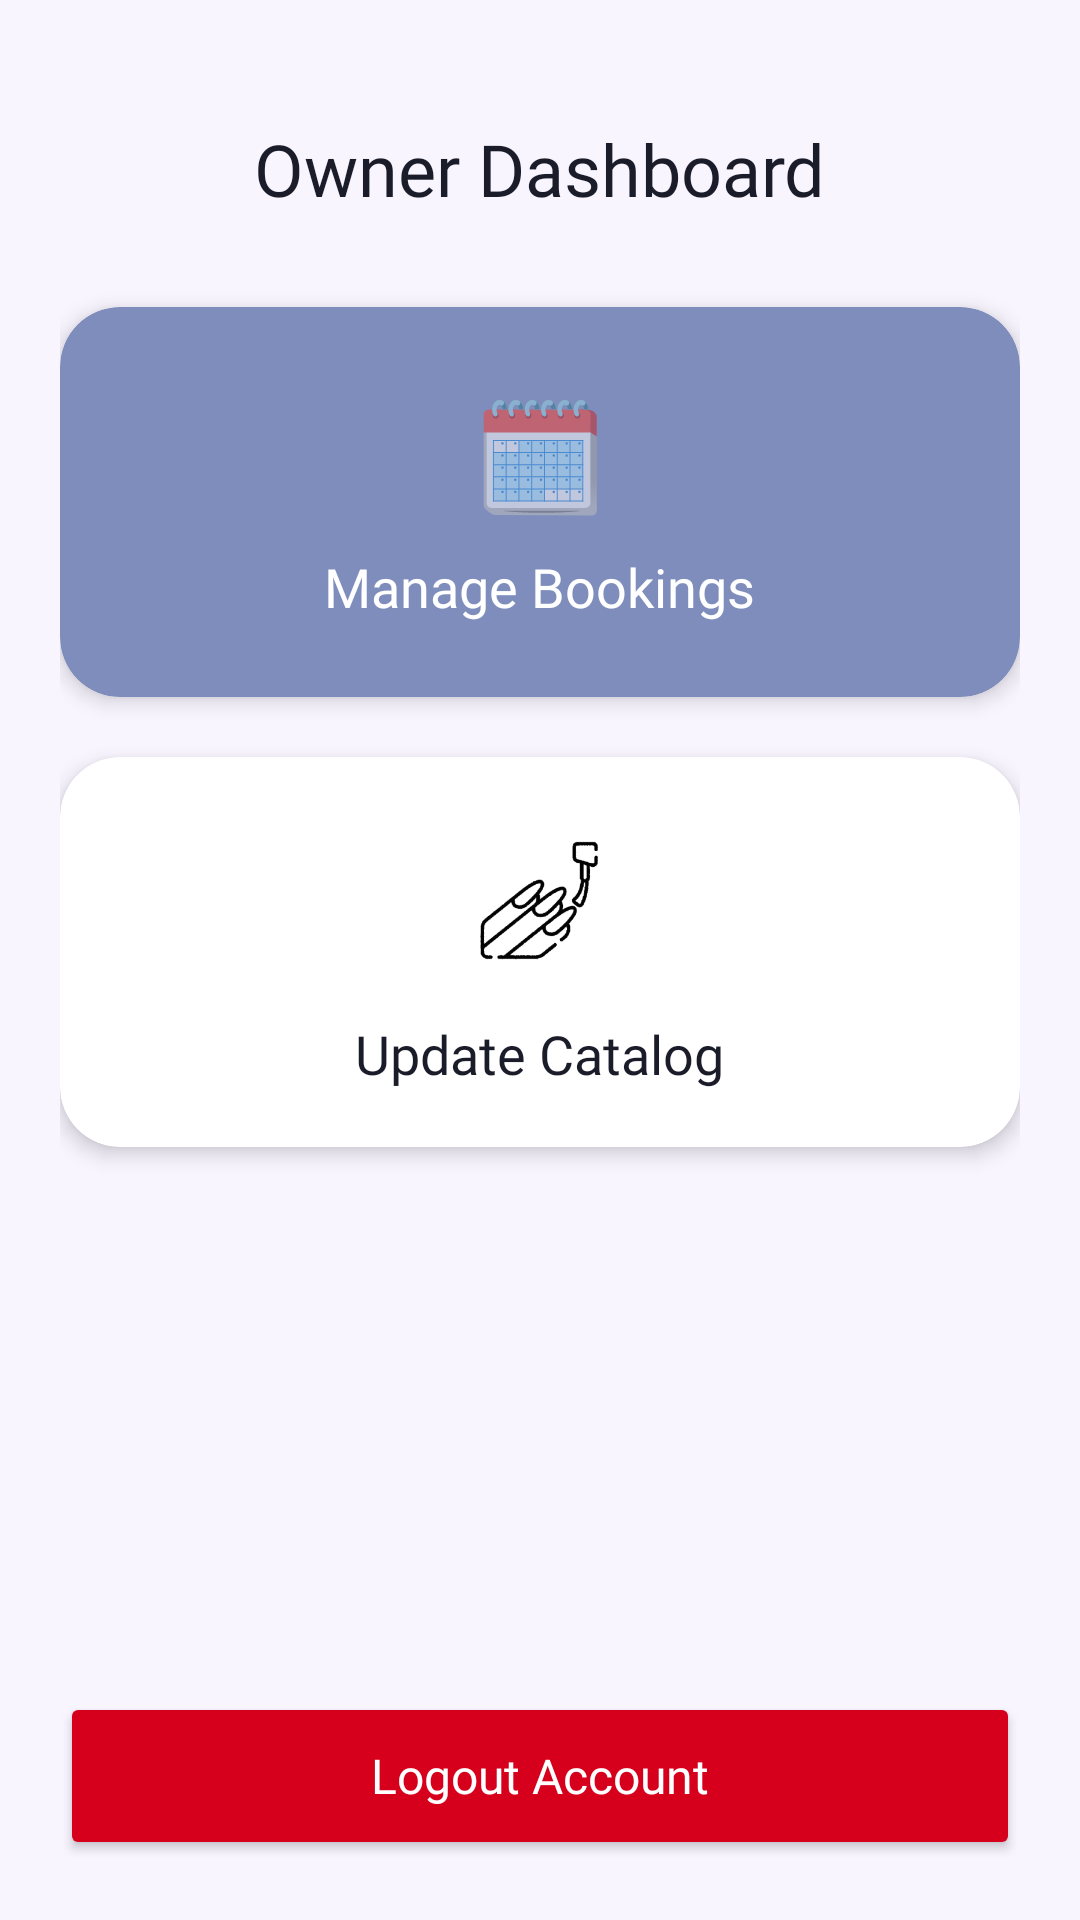

Icons on this 1080px×1920px Android screen, each with its box as bbox(x1, y1, x2, y2):
brush: bbox(480, 842, 598, 960)
